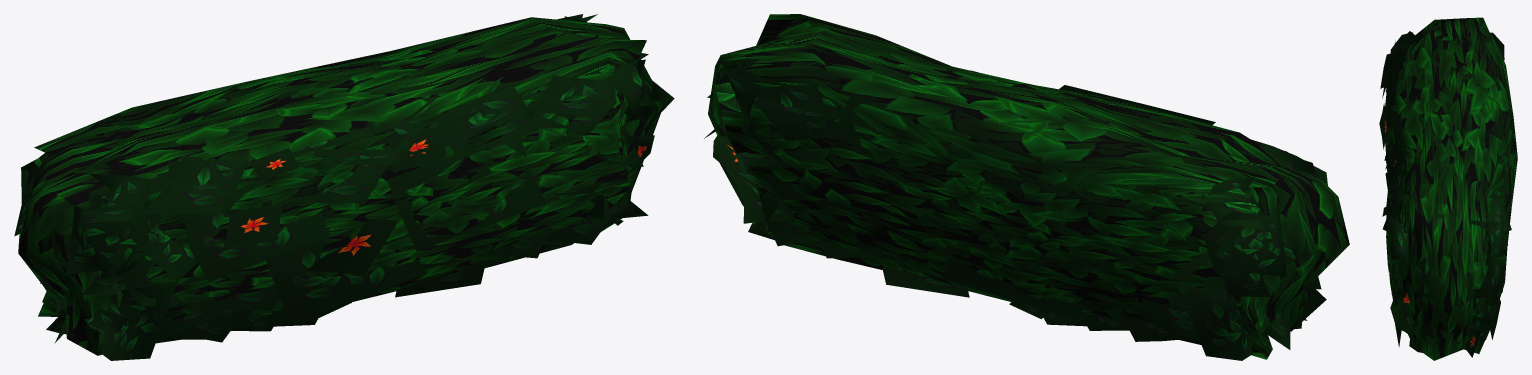
The model's file is Grassfence2.fbx.
3 renders of one model, left to right at view 1: azimuth 30°, elevation 25°; view 2: azimuth 150°, elevation 25°; view 3: azimuth 270°, elevation 25°, orthographic. The views are drawn at different scales.
Parts seen in each view (by area): view 1: bush; view 2: bush; view 3: bush.
Part boxes in pixels (x1,y1,x2,y2): bush: [14, 14, 674, 360]; bush: [704, 14, 1349, 360]; bush: [1379, 17, 1517, 360].
Bounding box in the file's own units: 2.23 × 0.6857 × 0.5412.
